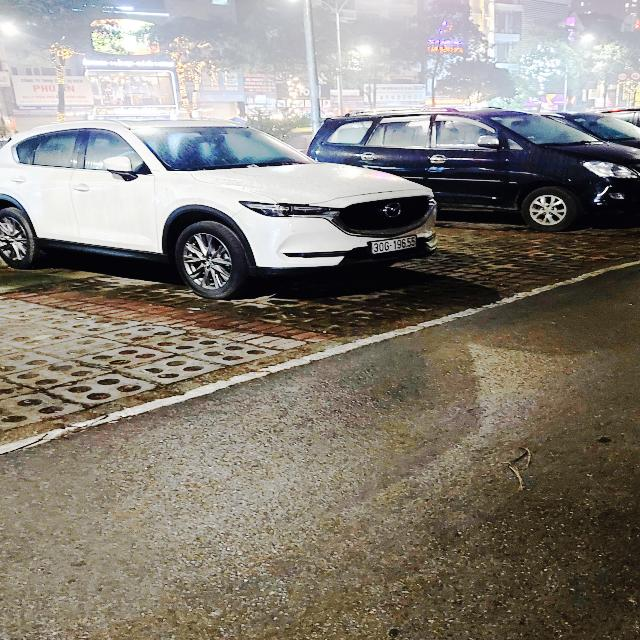license_plate: (372, 233, 421, 257)
